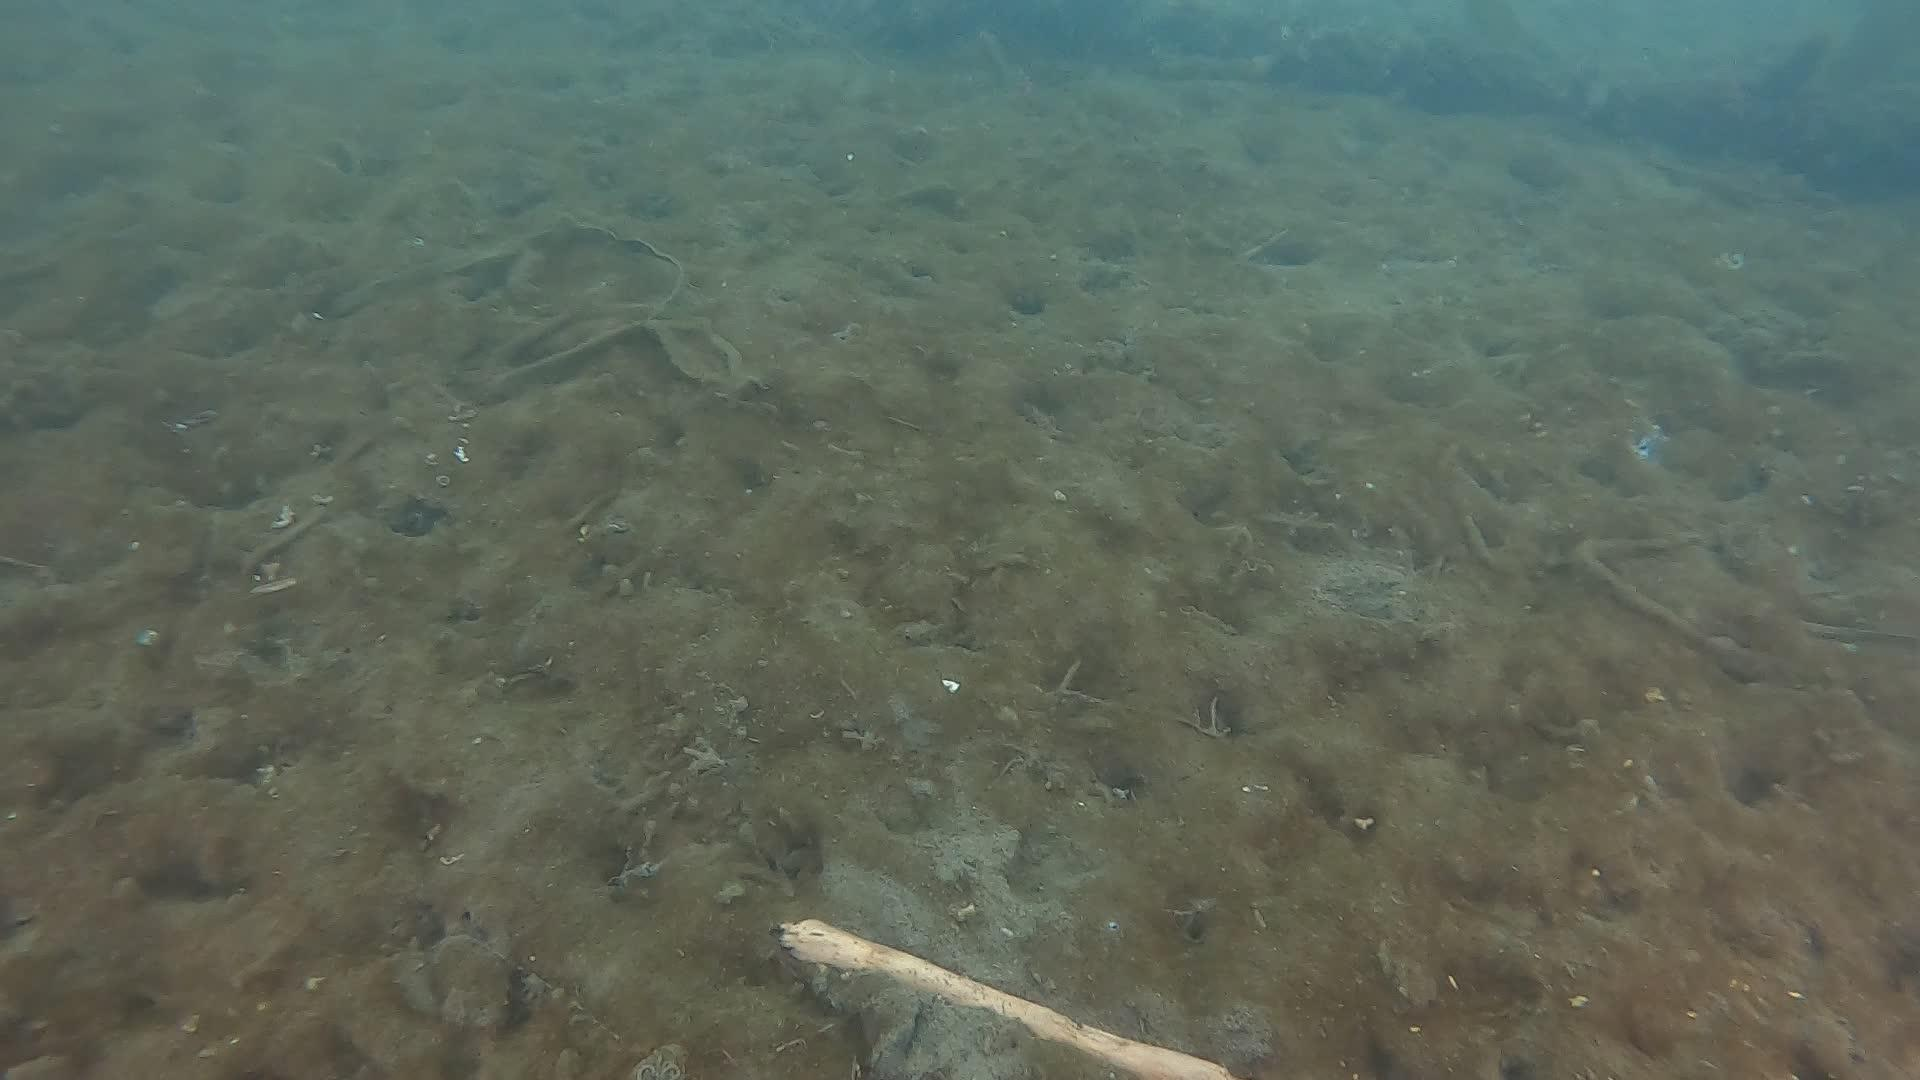wood: (778, 909, 1228, 1080)
